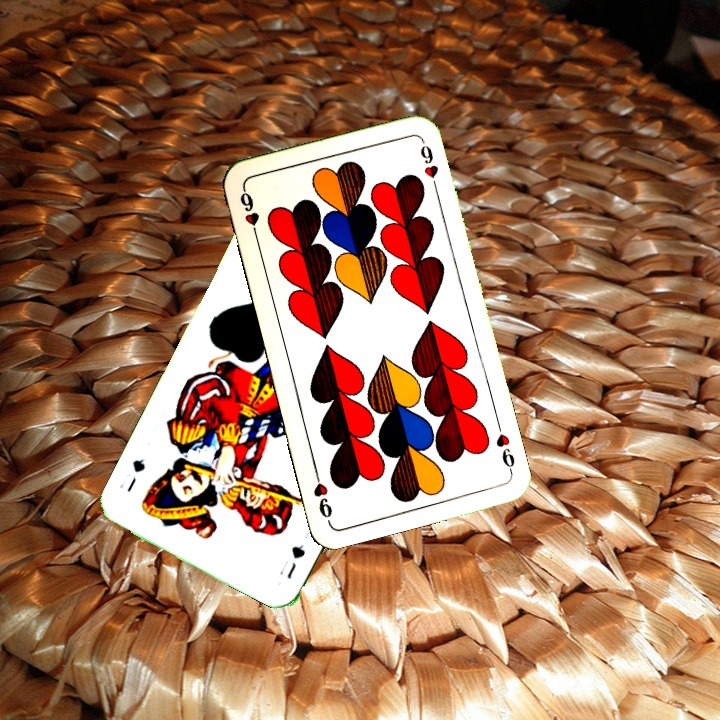GU: (283, 540, 308, 582)
H9: (235, 185, 262, 243), (492, 429, 518, 476)
